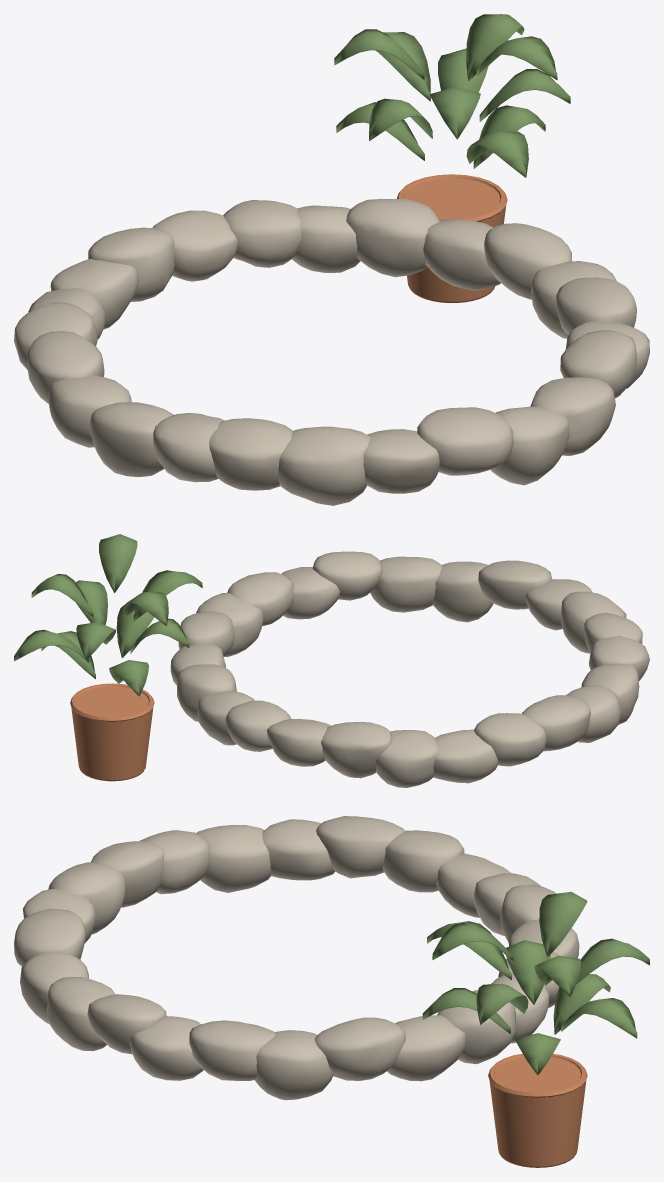
Rendered from detail-onsen.glb.
The picture shows the model from 3 angles, top to bottom: view 1: azimuth 30°, elevation 25°; view 2: azimuth 150°, elevation 25°; view 3: azimuth 270°, elevation 25°; orthographic projection. The views are drawn at different scales.
Visible parts, largest first — view 1: onsen_decor warm cut stone, onsen__olive leaf, onsen__terracotta; view 2: onsen_decor warm cut stone, onsen__olive leaf, onsen__terracotta; view 3: onsen_decor warm cut stone, onsen__olive leaf, onsen__terracotta.
Part boxes in pixels (x1,y1,x2,y2): onsen_decor warm cut stone: (14, 198, 649, 505); onsen__olive leaf: (334, 14, 570, 177); onsen__terracotta: (397, 174, 507, 303); onsen_decor warm cut stone: (170, 551, 649, 787); onsen__olive leaf: (14, 534, 202, 696); onsen__terracotta: (70, 683, 154, 781); onsen_decor warm cut stone: (14, 816, 579, 1100); onsen__olive leaf: (422, 891, 649, 1075); onsen__terracotta: (488, 1053, 587, 1167).
Bounding box in the file's own units: 2.52 × 1.03 × 2.48.
